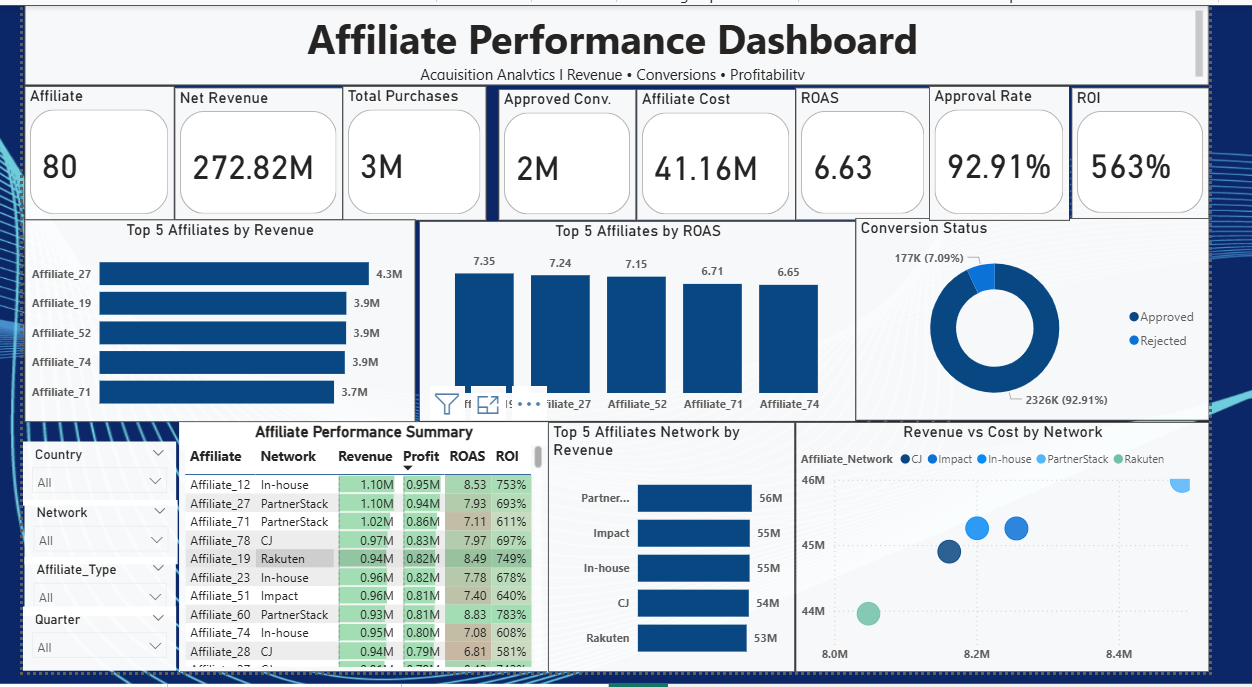

This screenshot's page, from the dashboard's own definition file:
{"tool":"powerbi","page":{"name":"Affiliate Performance","canvas":[1280,720],"ordinal":1},"visuals":[{"type":"cardVisual","title":"Affiliate","fields":{"Data":["Sheet1.affiliate_count"]},"box":[1.7,86.7,161.7,145],"z":0},{"type":"cardVisual","title":"Net Revenue","fields":{"Data":["Sum(Sheet1.Net_Revenue)"]},"box":[163.3,88.3,181.7,143.3],"z":1000},{"type":"cardVisual","title":"Total Purchases","fields":{"Data":["Sum(Sheet1.Purchases)"]},"box":[345,86.7,155,145],"z":2000},{"type":"cardVisual","title":"Approved Conv.","fields":{"Data":["Sum(Sheet1.Approved_Conversions)"]},"box":[513.3,90,148.3,141.7],"z":3000},{"type":"cardVisual","title":"Affiliate Cost","fields":{"Data":["Sum(Sheet1.Affiliate_Cost)"]},"box":[661.7,90,171.7,141.7],"z":4000},{"type":"cardVisual","title":"ROAS","fields":{"Data":["Sheet1.ROAS Ratio","Sheet1.ROAS Ratio"]},"box":[833.3,88.3,145,143.3],"z":5000},{"type":"cardVisual","title":"ROI","fields":{"Data":["Sheet1.ROI Ratio"]},"box":[1131.7,88.3,148.3,141.7],"z":6000},{"type":"barChart","title":"Top 5 Affiliates by Revenue","fields":{"Category":["Sheet1.Affiliate_Name"],"Y":["Sum(Sheet1.Net_Revenue)"]},"box":[1.7,231.7,421.7,218.3],"z":8000},{"type":"columnChart","title":"Top 5 Affiliates by ROAS","fields":{"Category":["Sheet1.Affiliate_Name"],"Y":["Sheet1.ROAS Ratio"]},"box":[426.7,233.3,471.7,216.7],"z":9000},{"type":"tableEx","title":"Affiliate Performance Summary","fields":{"Values":["Sheet1.Affiliate_Name","Sheet1.Affiliate_Network","Sum(Sheet1.Net_Revenue)","Sum(Sheet1.Profit)","Sheet1.ROAS Ratio","Sheet1.ROI Ratio"]},"box":[168.3,450,398.3,270],"z":10000},{"type":"scatterChart","title":"Revenue vs Cost by Network","fields":{"X":["Sum(Sheet1.Affiliate_Cost)"],"Y":["Sum(Sheet1.Profit)"],"Size":["Sum(Sheet1.Purchases)"],"Series":["Sheet1.Affiliate_Network"]},"box":[833.3,450,446.7,270],"z":11000},{"type":"donutChart","title":"Conversion Status","fields":{"Y":["Sum(Sheet1.Approved_Conversions)","Sum(Sheet1.Rejected_Conversions)"]},"box":[898.3,230,381.7,218.3],"z":12000},{"type":"cardVisual","title":"Approval Rate","fields":{"Data":["Sheet1.Conversion Approval Rate"]},"box":[978.3,86.7,151.7,145],"z":13000},{"type":"barChart","title":"Top 5 Affiliates Network by Revenue","fields":{"Category":["Sheet1.Affiliate_Network"],"Y":["Sum(Sheet1.Net_Revenue)"]},"box":[566.7,450,266.7,270],"z":14000},{"type":"slicer","fields":{"Values":["Sheet1.Affiliate_Type"]},"box":[1.6,595.9,163.5,63.1],"z":15000},{"type":"slicer","fields":{"Values":["Sheet1.Affiliate_Network"]},"box":[1.6,534.3,165.2,69.6],"z":16000},{"type":"textbox","box":[1.7,0,1278.3,86.7],"z":17000},{"type":"slicer","fields":{"Values":["Sheet1.Date.Variation.Date Hierarchy.Quarter"]},"box":[0,649.3,165.2,69.6],"z":18000},{"type":"slicer","fields":{"Values":["Sheet1.Country"]},"box":[0,471.2,165.2,69.6],"z":19000}]}

Visuals, with their boxes in screenshot pixels (x1, y1, x2, y2), scaled from the page's 1280x720 canvas onto the 1252x687 screenshot:
"Affiliate" cardVisual: (x1=2, y1=83, x2=160, y2=221)
"Net Revenue" cardVisual: (x1=160, y1=84, x2=337, y2=221)
"Total Purchases" cardVisual: (x1=337, y1=83, x2=489, y2=221)
"Approved Conv." cardVisual: (x1=502, y1=86, x2=647, y2=221)
"Affiliate Cost" cardVisual: (x1=647, y1=86, x2=815, y2=221)
"ROAS" cardVisual: (x1=815, y1=84, x2=957, y2=221)
"ROI" cardVisual: (x1=1107, y1=84, x2=1251, y2=219)
"Top 5 Affiliates by Revenue" barChart: (x1=2, y1=221, x2=414, y2=429)
"Top 5 Affiliates by ROAS" columnChart: (x1=417, y1=223, x2=879, y2=429)
"Affiliate Performance Summary" tableEx: (x1=165, y1=429, x2=554, y2=686)
"Revenue vs Cost by Network" scatterChart: (x1=815, y1=429, x2=1251, y2=686)
"Conversion Status" donutChart: (x1=879, y1=219, x2=1251, y2=428)
"Approval Rate" cardVisual: (x1=957, y1=83, x2=1105, y2=221)
"Top 5 Affiliates Network by Revenue" barChart: (x1=554, y1=429, x2=815, y2=686)
slicer - Sheet1.Affiliate_Type: (x1=2, y1=569, x2=161, y2=629)
slicer - Sheet1.Affiliate_Network: (x1=2, y1=510, x2=163, y2=576)
textbox: (x1=2, y1=0, x2=1251, y2=83)
slicer - Sheet1.Date.Variation.Date Hierarchy.Quarter: (x1=0, y1=620, x2=162, y2=686)
slicer - Sheet1.Country: (x1=0, y1=450, x2=162, y2=516)
